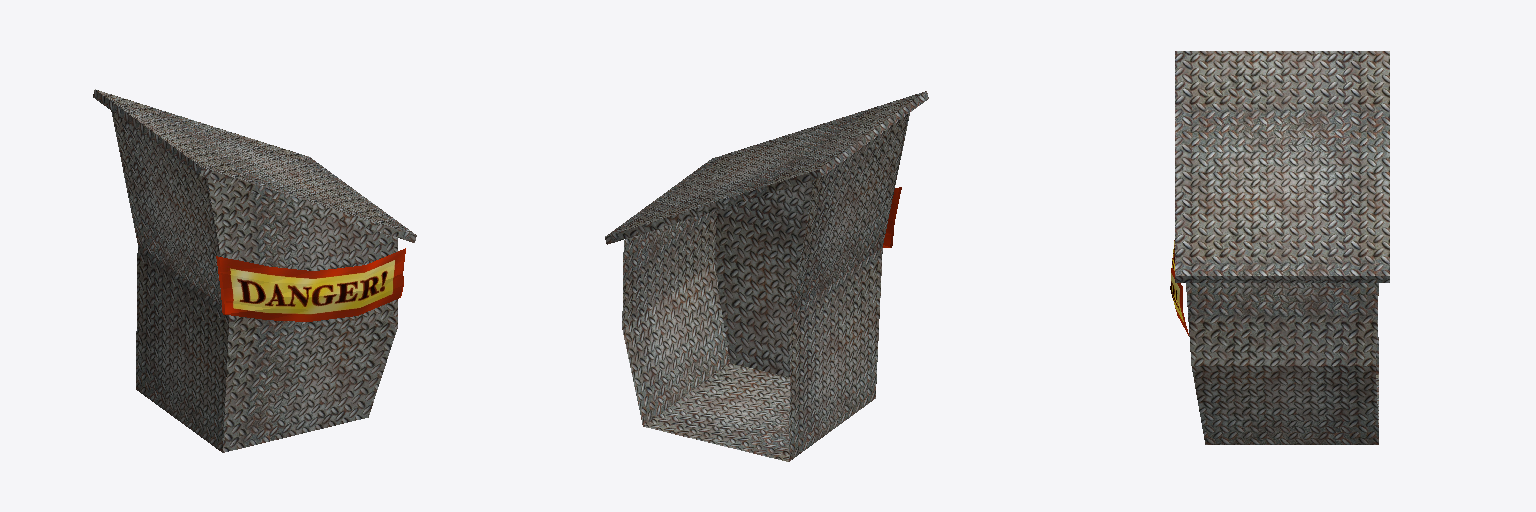
3 views of the same model, side by side, from view 1: azimuth 30°, elevation 25°; view 2: azimuth 150°, elevation 25°; view 3: azimuth 270°, elevation 25° (orthographic).
Visible parts, largest first — view 1: Cube; view 2: Cube; view 3: Cube.
Boxes of the visible parts, box(x1,y1,x2,y2) form: Cube: box(93, 89, 416, 452); Cube: box(605, 91, 928, 461); Cube: box(1170, 51, 1389, 444).
Size of the model in its own units: 2.98 by 4 by 2.61.
Materials: 2 (2 with a texture image).